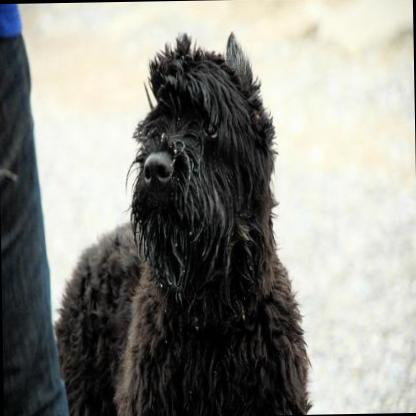Bouvier_des_Flandres: (45, 26, 313, 416)
